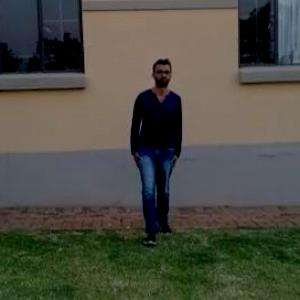follow: (121, 43, 193, 269)
